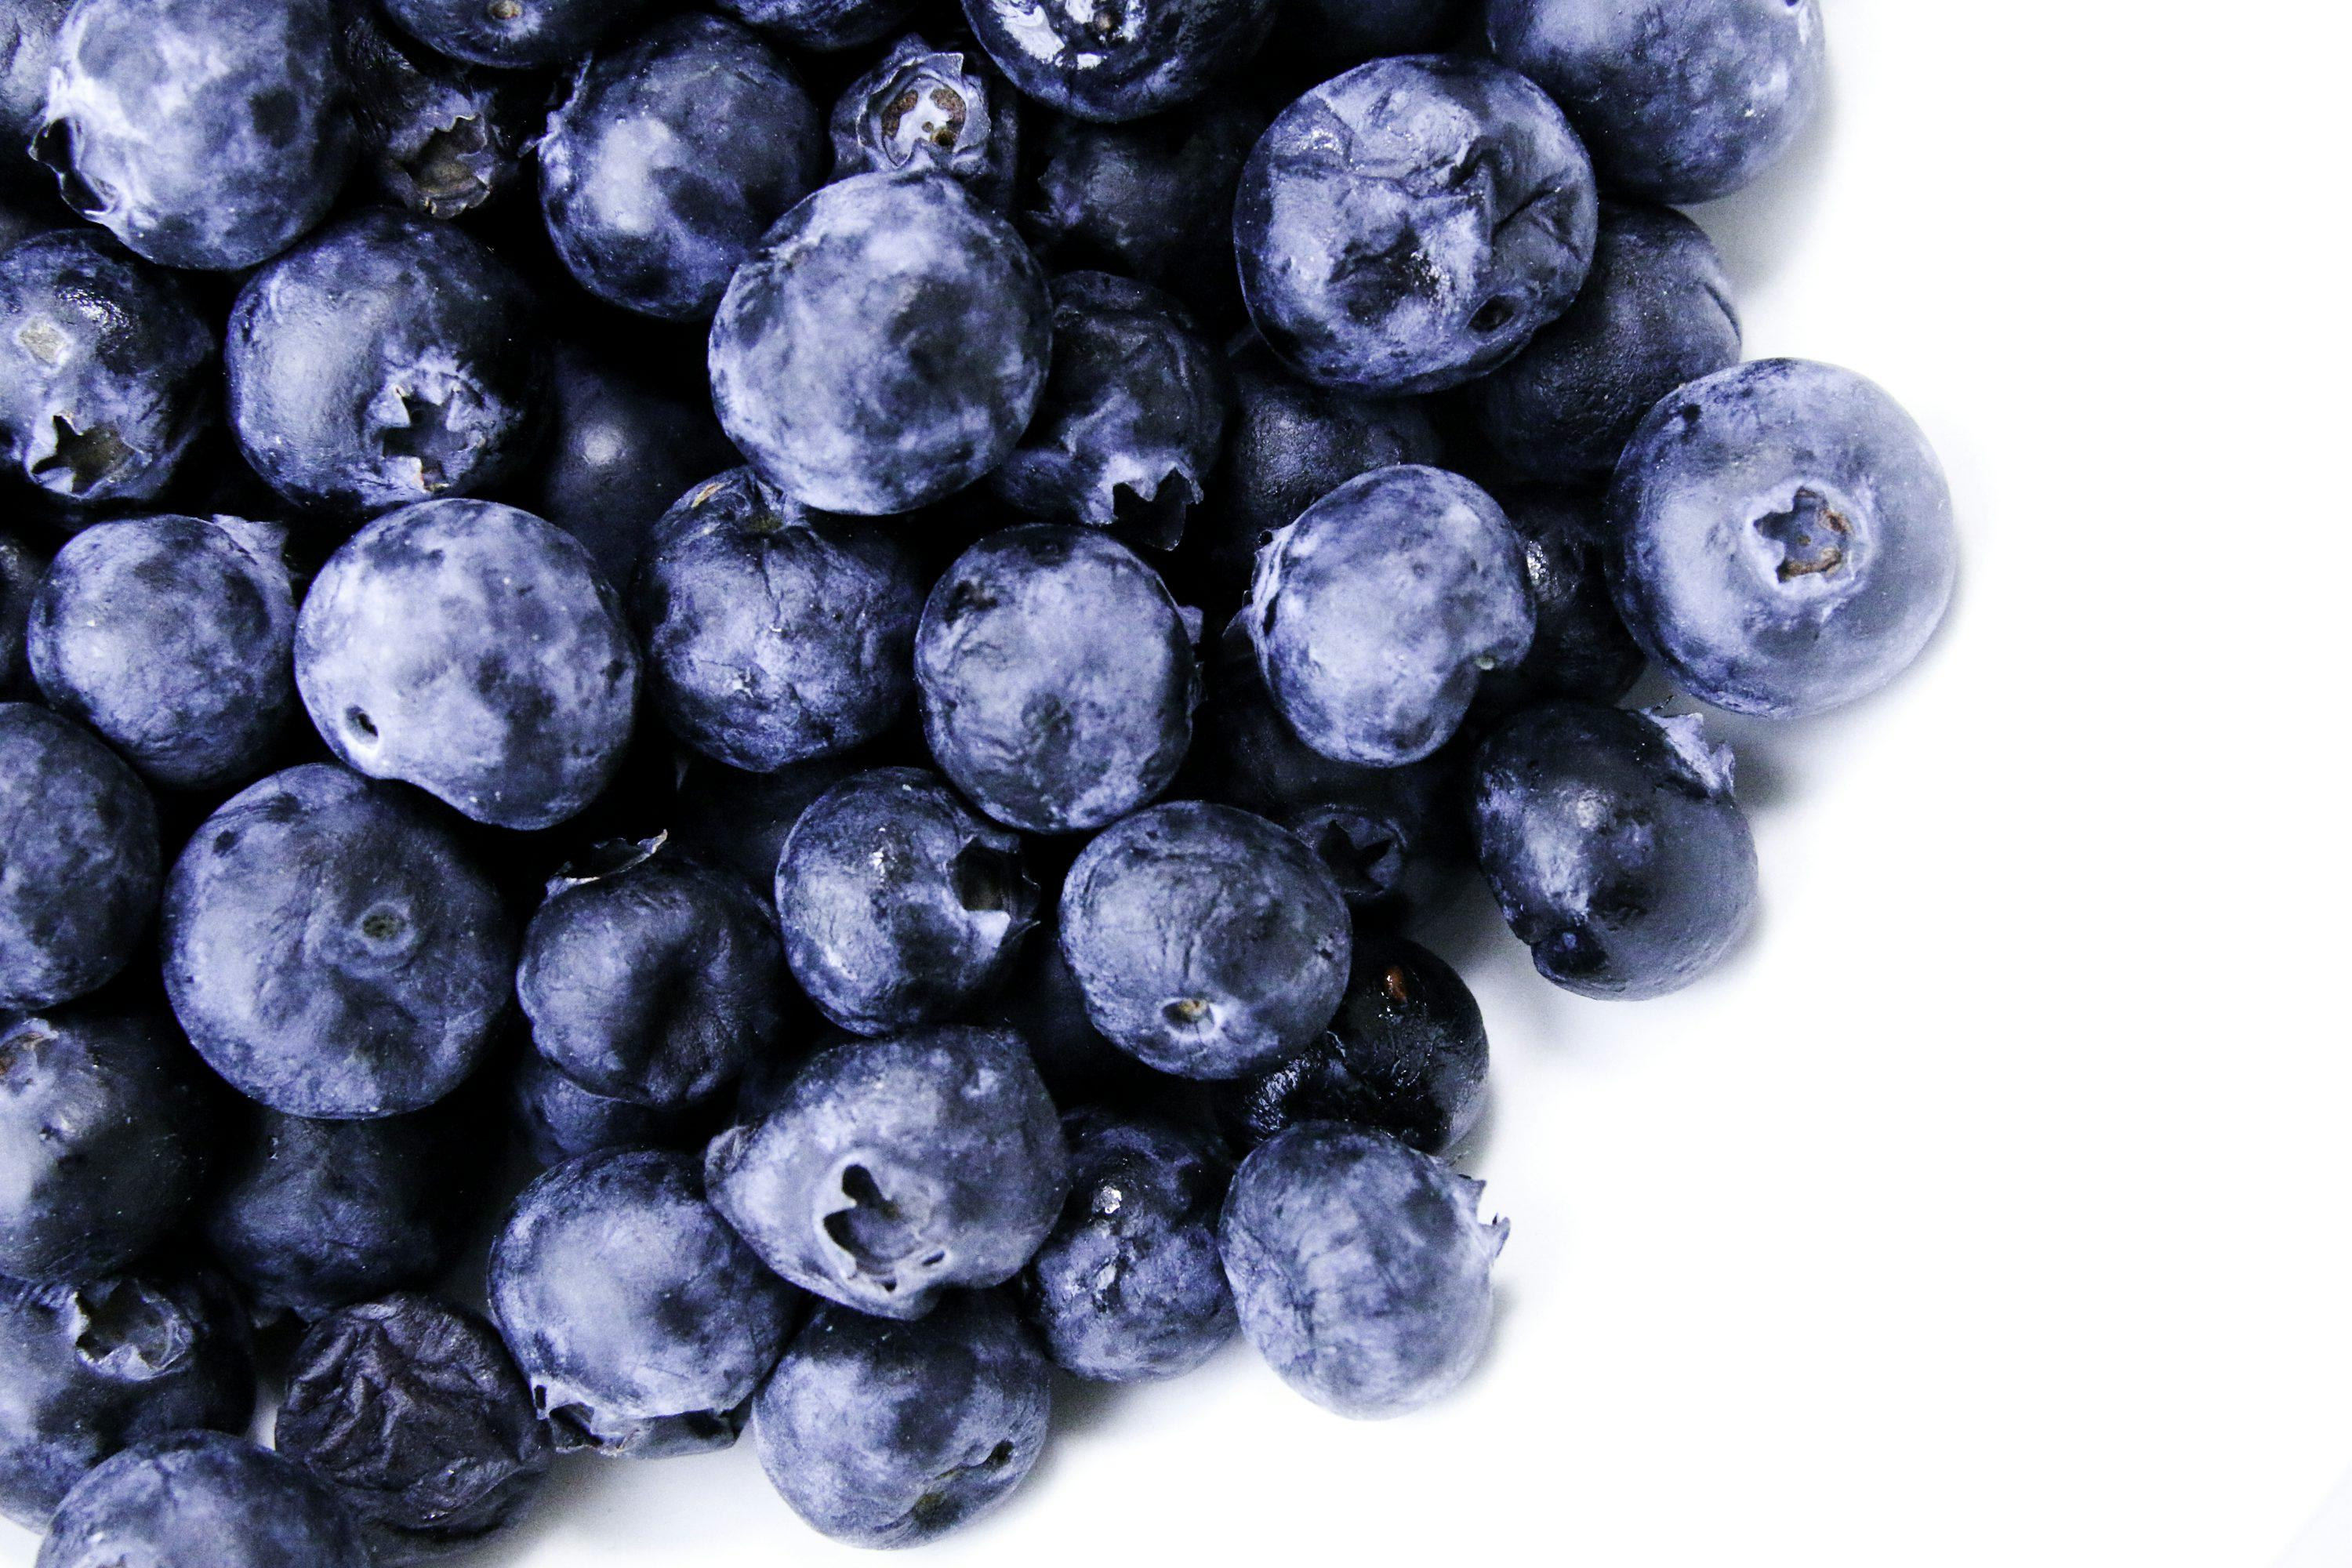bluebarry: (4, 0, 1960, 1559), (1600, 354, 1960, 723), (1228, 49, 1600, 399), (703, 165, 1055, 518), (1214, 1116, 1512, 1421), (1467, 698, 1760, 1003)
